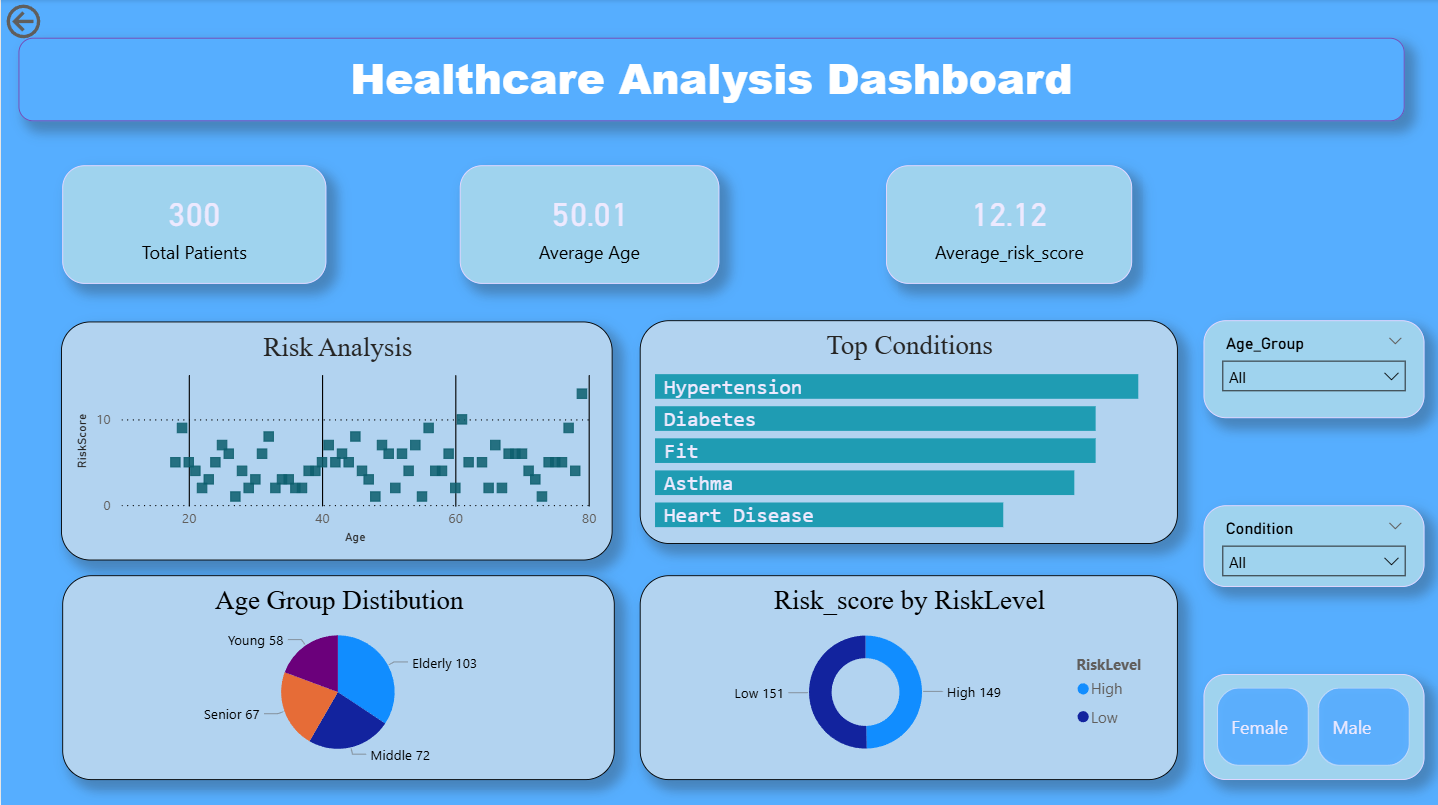

What the dashboard file says about the page in this screenshot:
{"tool":"powerbi","page":{"name":"Page 1","canvas":[1280,720],"ordinal":0},"visuals":[{"type":"card","fields":{"Values":["CountNonNull(cleaned_healtcare_data.PatientID)"]},"box":[54.2,148.2,235.2,105.5],"z":0},{"type":"card","fields":{"Values":["cleaned_healtcare_data.AverageAge"]},"box":[409.1,148.2,230.9,105.5],"z":1000},{"type":"card","fields":{"Values":["cleaned_healtcare_data.Average_risk_score"]},"box":[788.2,148.2,219.5,105.5],"z":2000},{"type":"scatterChart","title":"Risk Analysis","fields":{"X":["cleaned_healtcare_data.Age"],"Y":["Count(cleaned_healtcare_data.RiskScore)"]},"box":[53.5,286.8,491.3,212.7],"z":3000},{"type":"clusteredBarChart","title":"Top Conditions","fields":{"Category":["cleaned_healtcare_data.Condition"],"Y":["CountNonNull(cleaned_healtcare_data.PatientID)"]},"box":[568.7,286.5,478.9,199.6],"z":4000},{"type":"pieChart","title":"Age Group Distibution","fields":{"Category":["cleaned_healtcare_data.AgeGroup"],"Y":["CountNonNull(cleaned_healtcare_data.PatientID)"]},"box":[54.2,513.1,491.8,182.4],"z":5000},{"type":"donutChart","fields":{"Y":["CountNonNull(cleaned_healtcare_data.RiskScore)"],"Series":["cleaned_healtcare_data.RiskLevel"]},"box":[568.7,513.1,478.9,182.4],"z":6000},{"type":"advancedSlicerVisual","fields":{"Values":["cleaned_healtcare_data.Gender"]},"box":[1070.5,601.5,196.7,94.1],"z":7000},{"type":"slicer","fields":{"Values":["cleaned_healtcare_data.Condition"]},"box":[1070.5,450.4,196.7,72.7],"z":8000},{"type":"actionButton","box":[0,0,100,40],"z":9000},{"type":"slicer","fields":{"Values":["cleaned_healtcare_data.AgeGroup"]},"box":[1070.5,286.5,196.7,86.9],"z":10000},{"type":"textbox","box":[15.7,34.2,1234.4,74.1],"z":11000}]}

Visuals, with their boxes in screenshot pixels (x1, y1, x2, y2), scaled from the page's 1280x720 canvas onto the 1438x805 screenshot:
card - CountNonNull(cleaned_healtcare_data.PatientID): region(61, 166, 325, 284)
card - cleaned_healtcare_data.AverageAge: region(460, 166, 719, 284)
card - cleaned_healtcare_data.Average_risk_score: region(885, 166, 1132, 284)
"Risk Analysis" scatterChart: region(60, 321, 612, 558)
"Top Conditions" clusteredBarChart: region(639, 320, 1177, 543)
"Age Group Distibution" pieChart: region(61, 574, 613, 778)
donutChart - CountNonNull(cleaned_healtcare_data.RiskScore) x cleaned_healtcare_data.RiskLevel: region(639, 574, 1177, 778)
advancedSlicerVisual - cleaned_healtcare_data.Gender: region(1203, 673, 1424, 778)
slicer - cleaned_healtcare_data.Condition: region(1203, 504, 1424, 585)
actionButton: region(0, 0, 112, 45)
slicer - cleaned_healtcare_data.AgeGroup: region(1203, 320, 1424, 417)
textbox: region(18, 38, 1404, 121)
